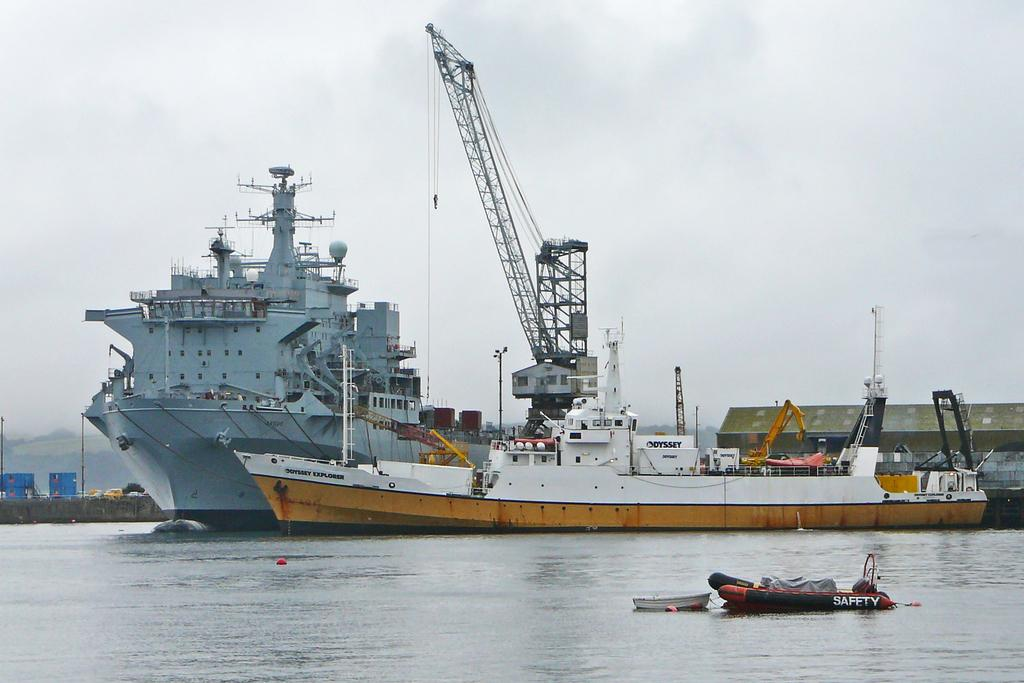Warship: (74, 162, 542, 537)
